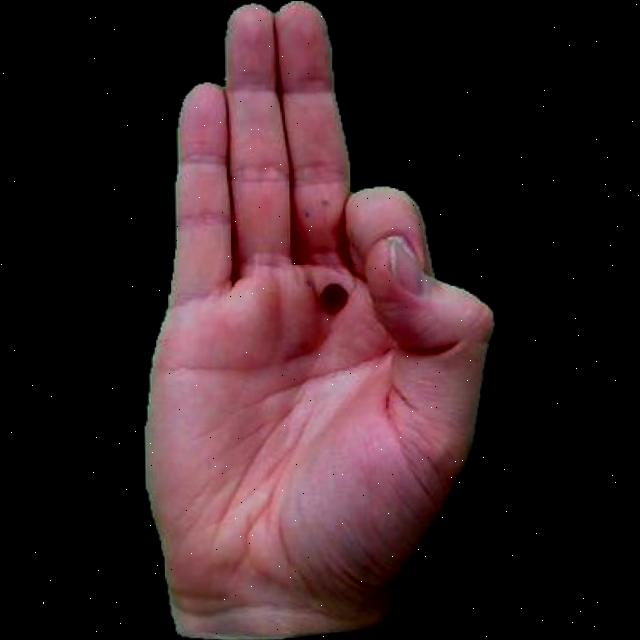f: (119, 0, 514, 640)
